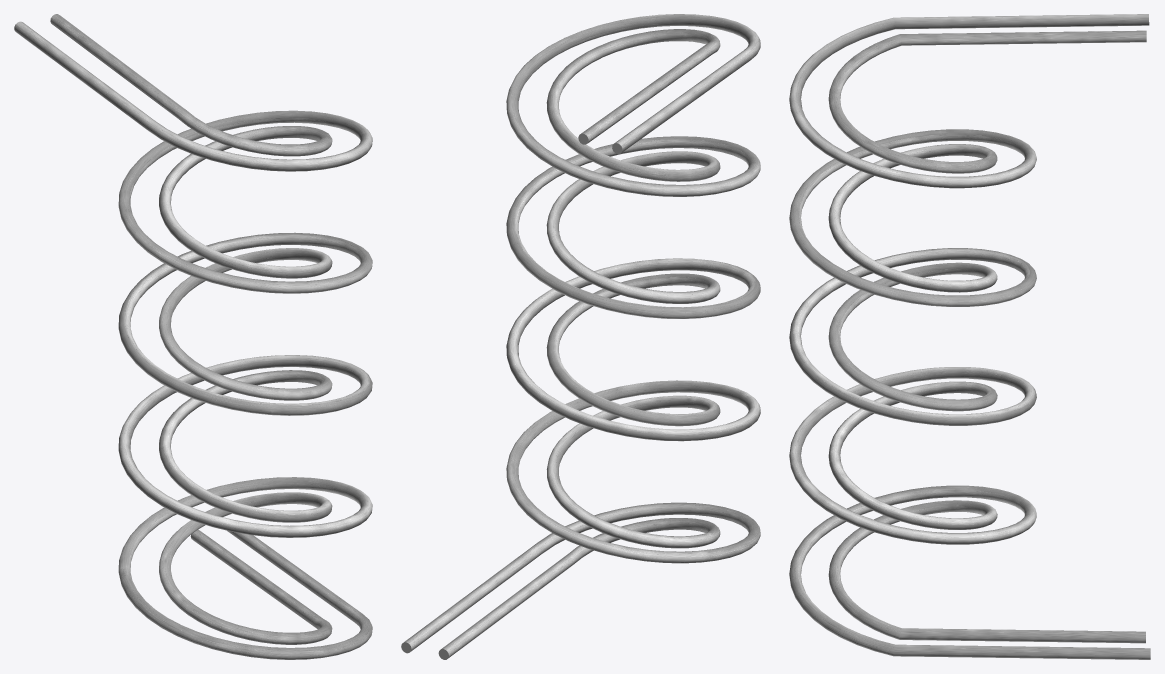
The model's file is metal_track.FBX.
3 views of the same model, side by side, from view 1: azimuth 30°, elevation 25°; view 2: azimuth 150°, elevation 25°; view 3: azimuth 270°, elevation 25° (orthographic). The views are drawn at different scales.
Parts seen in each view (by area): view 1: Helix001, Helix002; view 2: Helix001, Helix002; view 3: Helix001, Helix002.
Boxes of the visible parts, x1,y1,x2,y2 form: Helix001: [14, 21, 372, 659]; Helix002: [50, 14, 332, 644]; Helix001: [401, 14, 760, 653]; Helix002: [438, 29, 720, 659]; Helix001: [789, 14, 1150, 659]; Helix002: [828, 30, 1146, 643].
Bounding box in the file's own units: 63.01 × 153 × 91.94.
1 material, 1 textured.
